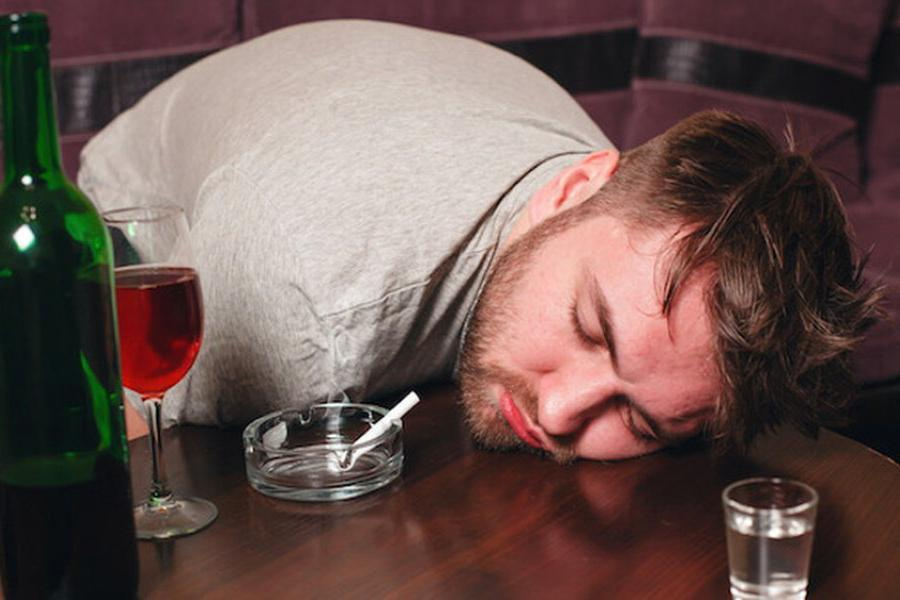Drunk: (469, 242, 721, 460)
